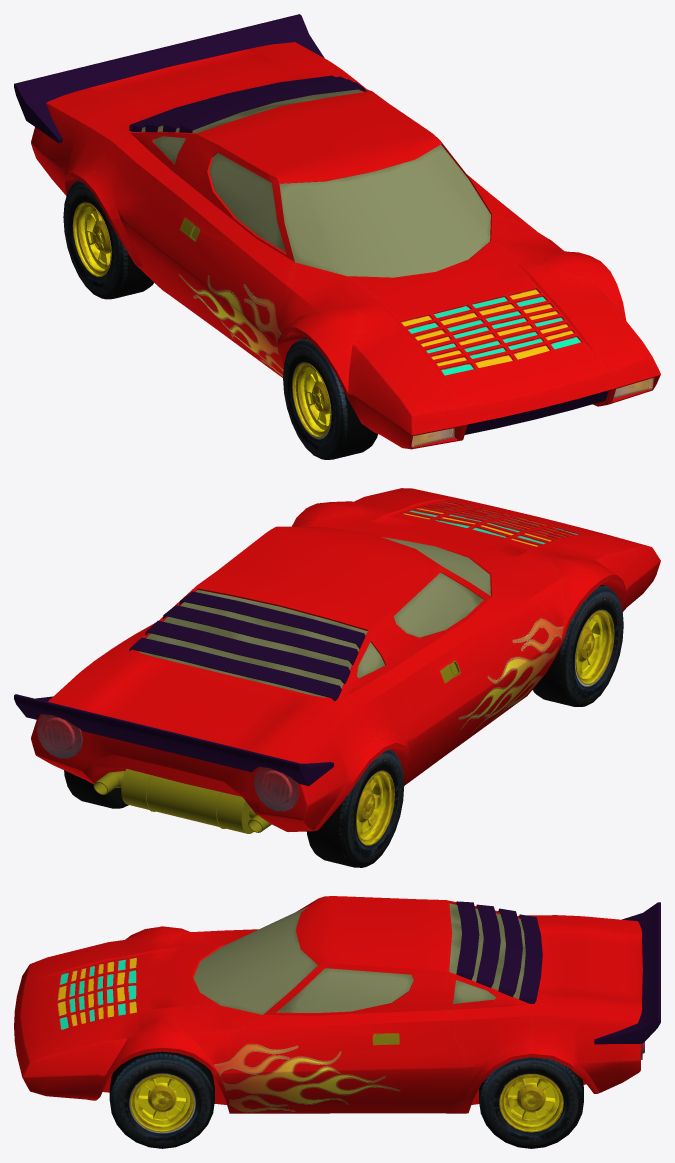
File: car4 (2).fbx
3 views of the same model, one above another, from view 1: azimuth 30°, elevation 25°; view 2: azimuth 150°, elevation 25°; view 3: azimuth 270°, elevation 25° (orthographic). The views are drawn at different scales.
Visible parts, largest first — view 1: car body.002, tyre.011, tyre.010; view 2: car body.002, tyre.010, tyre.011, tyre.008; view 3: car body.002, tyre.009, tyre.008.
Boxes of the visible parts, <box> form: car body.002: <box>14,14,660,449</box>; tyre.011: <box>283,337,377,459</box>; tyre.010: <box>63,180,153,299</box>; car body.002: <box>14,488,660,833</box>; tyre.010: <box>306,749,404,867</box>; tyre.011: <box>532,585,623,706</box>; tyre.008: <box>64,770,128,808</box>; car body.002: <box>14,896,660,1113</box>; tyre.009: <box>109,1051,214,1148</box>; tyre.008: <box>479,1057,583,1148</box>.
Bounding box in the file's own units: 167 × 105 × 368.
1 material, 1 textured.
